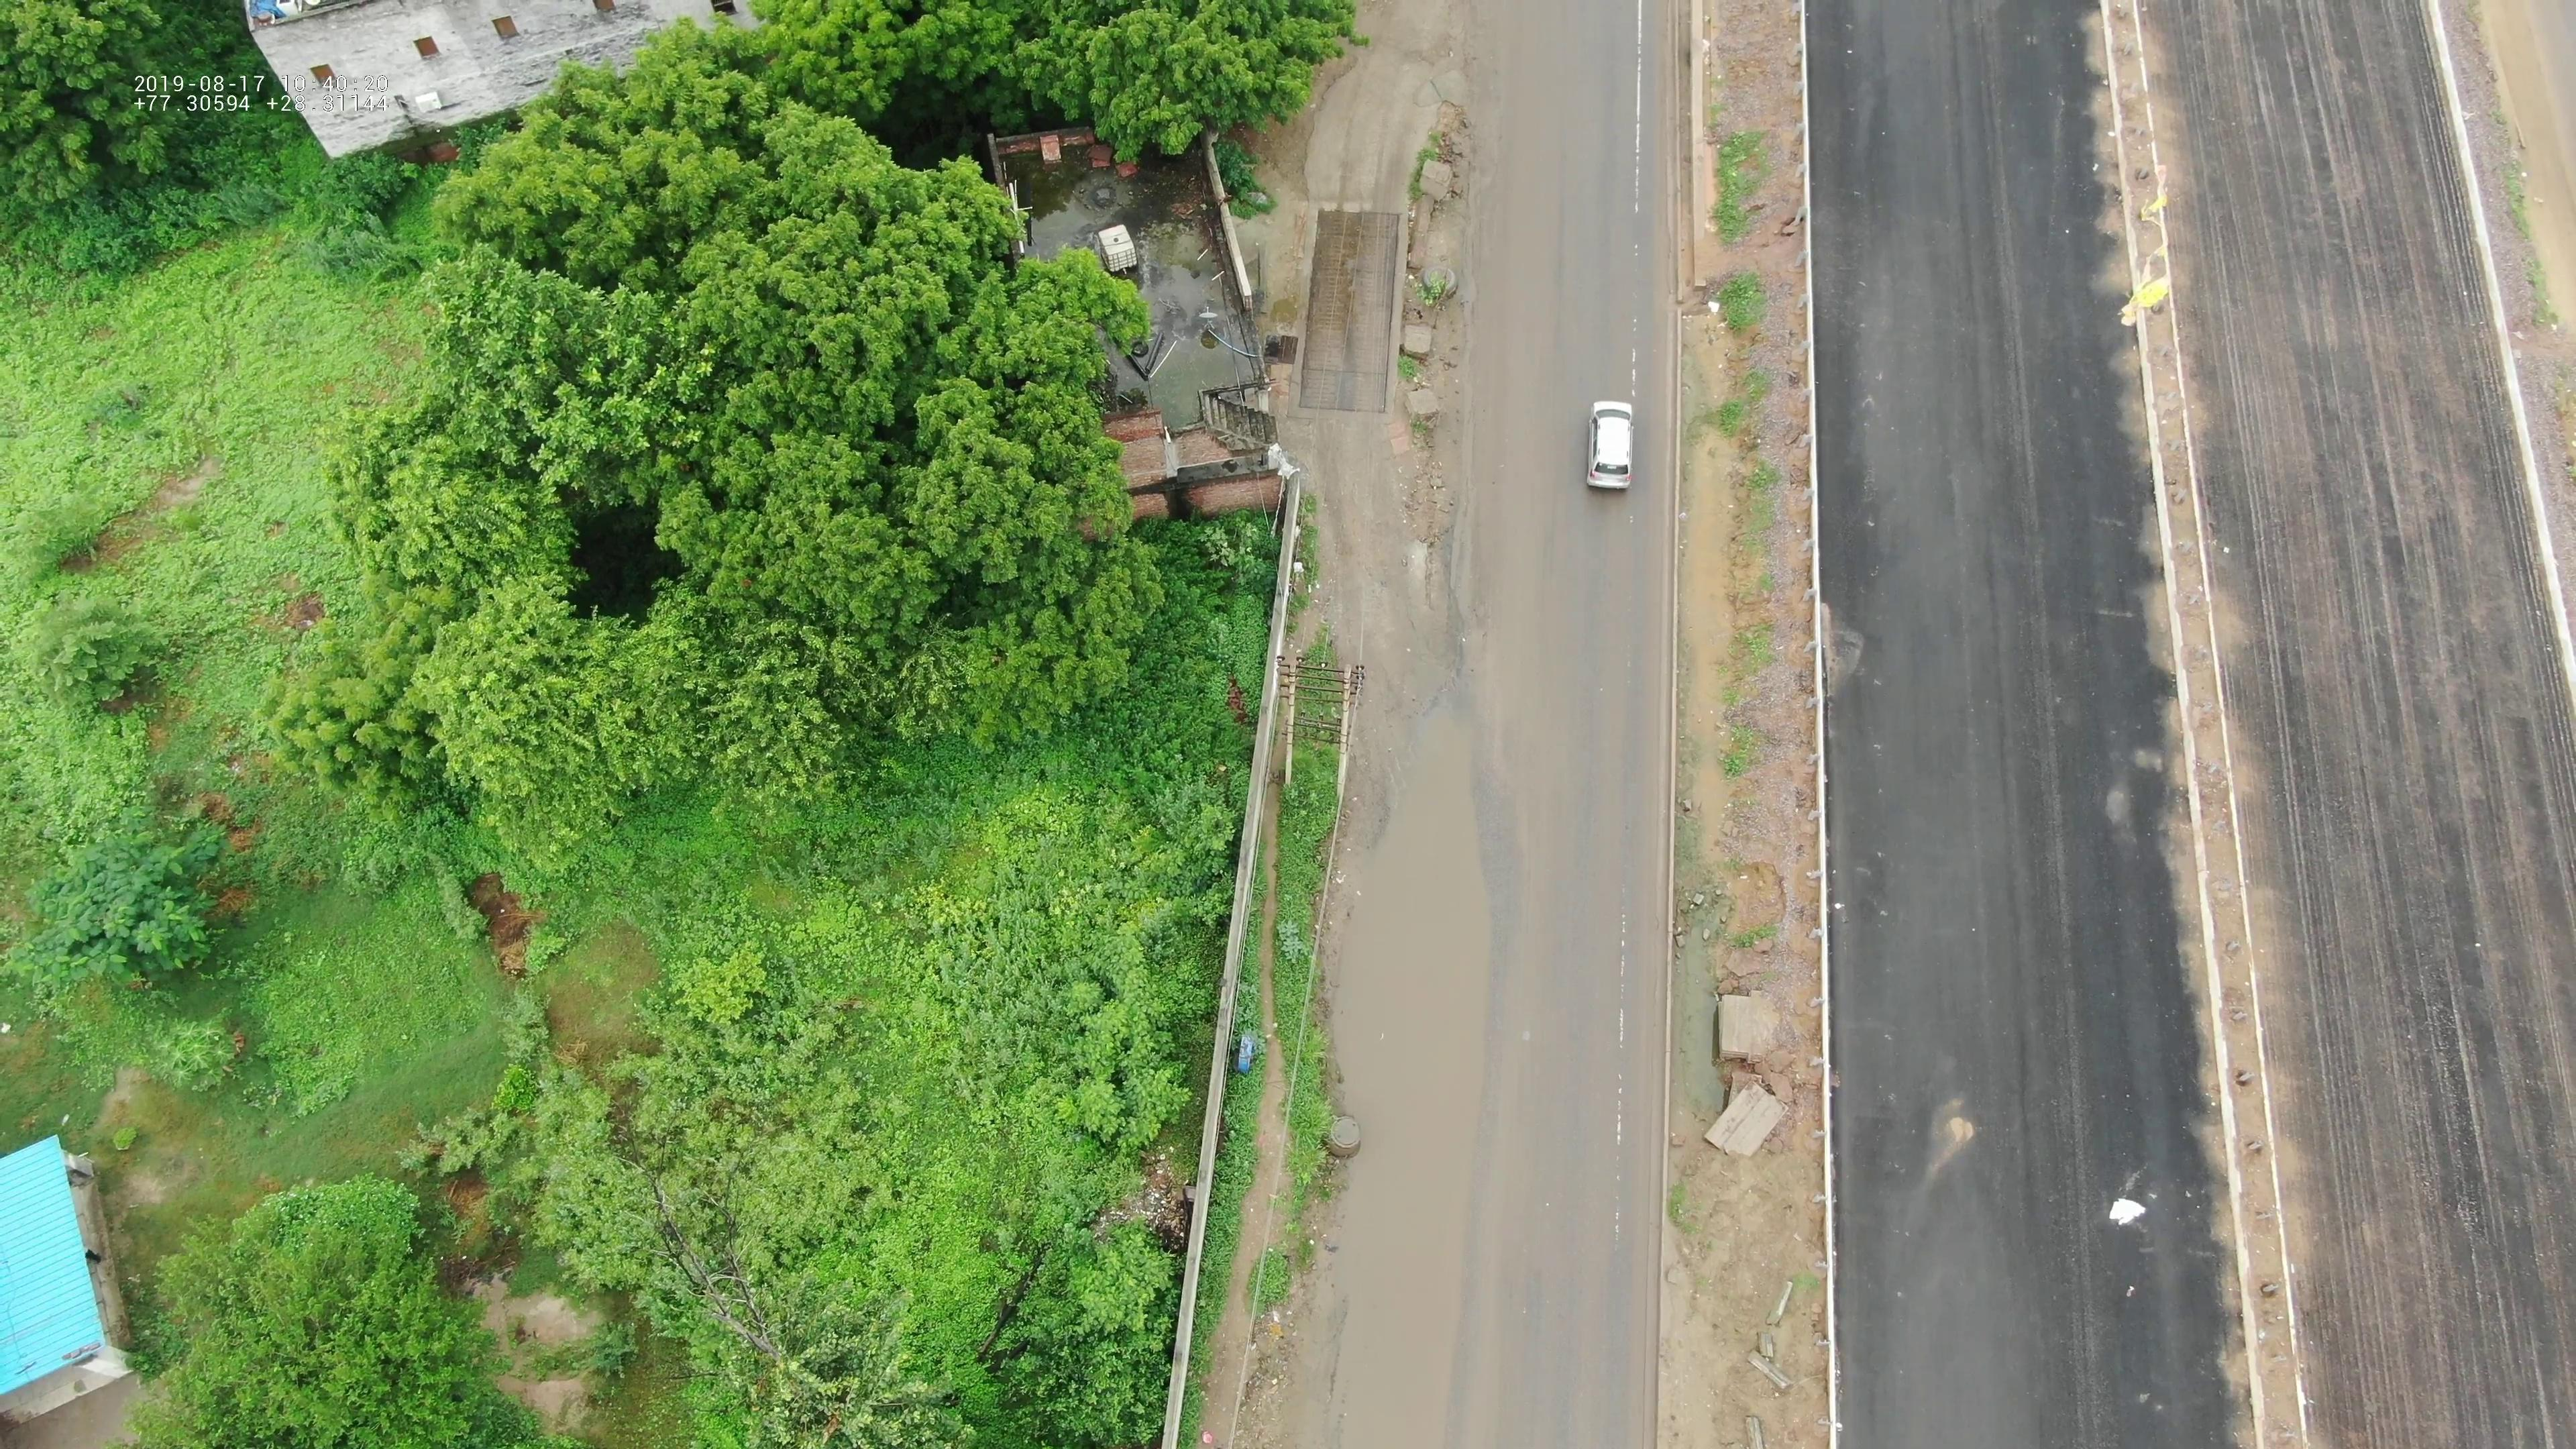Muddy_road: (1474, 149, 1553, 566)
Waterlogging: (1290, 720, 1497, 1421)
